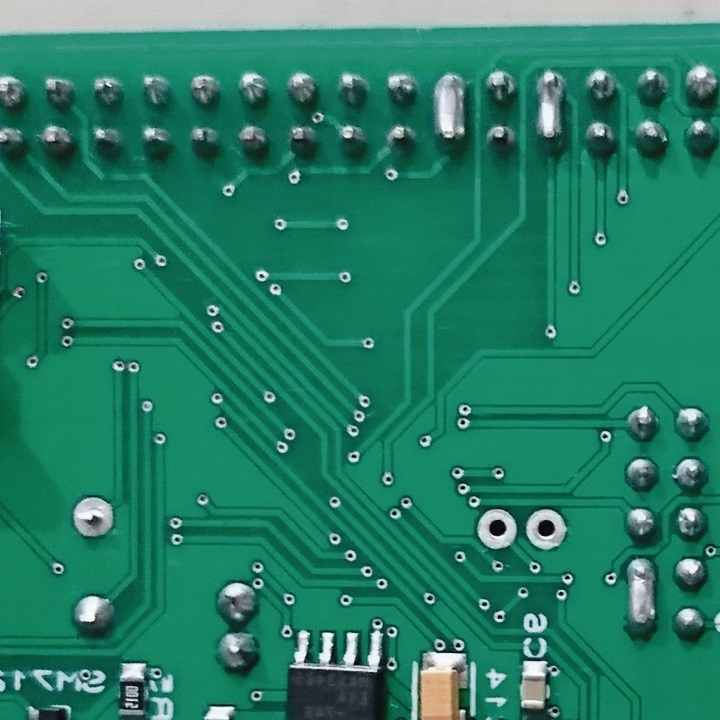F: (66, 495, 118, 543), (473, 505, 519, 553), (525, 509, 570, 553)
P: (428, 72, 471, 156), (623, 554, 660, 644), (532, 68, 570, 155)
